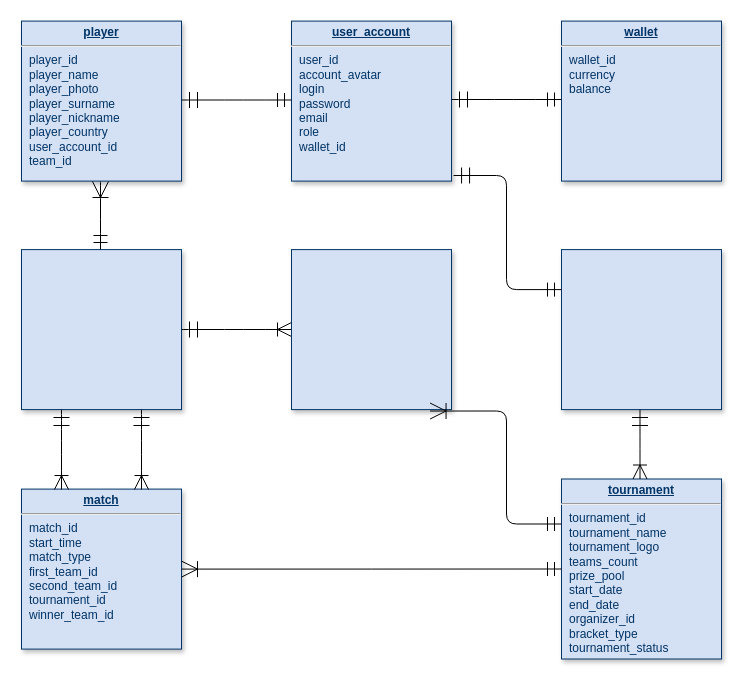
The diagram is 745 pixels wide and 684 high, and some of its shapes have lost their labels. Each missing label, with the centre of its shape:
"organizer organizer_id organizer_name organizer_logo user_account_id" goes at point (642, 331).
"team team_id team_logo team_name total_points total_winnings t_p_id" goes at point (102, 331).
"tournament_participants t_p_id team_id tournament_id" goes at point (372, 331).
